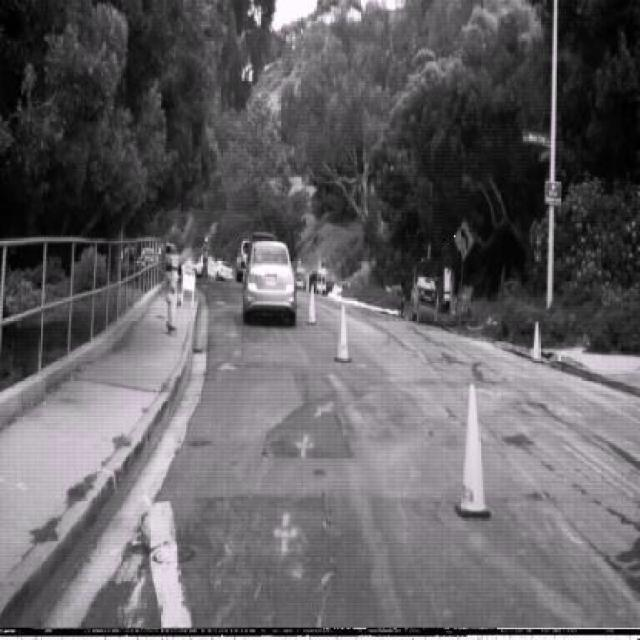curveLeft: (454, 217, 474, 260)
